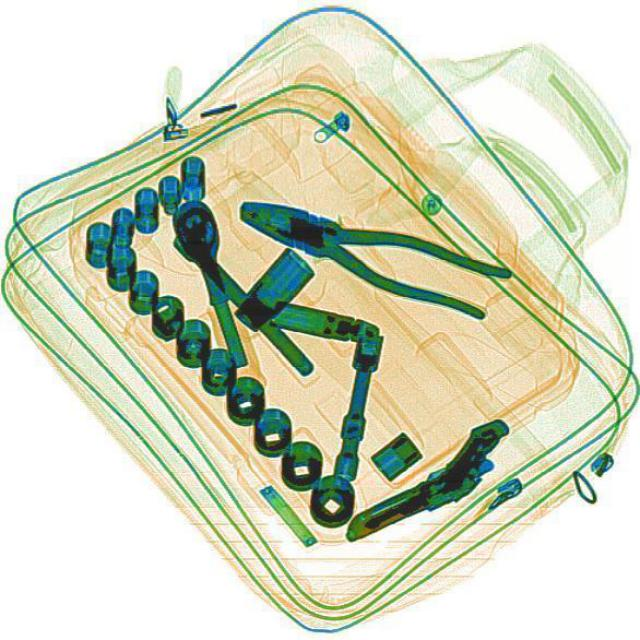Gun: (321, 414, 527, 540)
Pliers: (225, 182, 511, 322)
